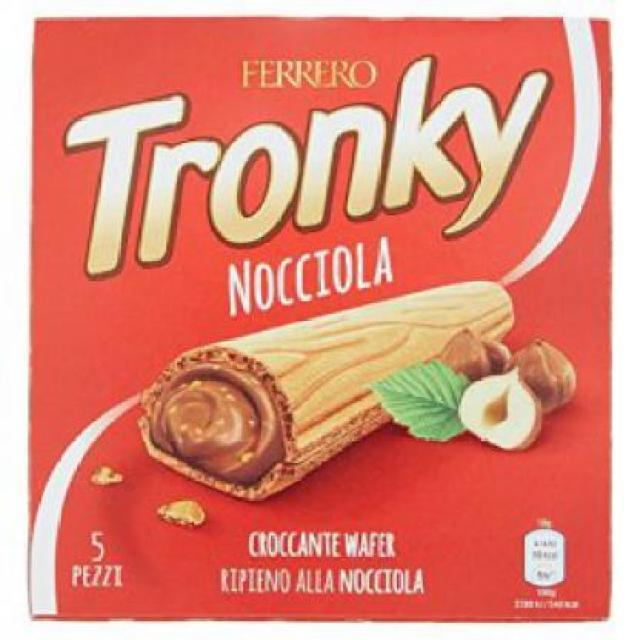Chocolate bar: (38, 25, 591, 613)
